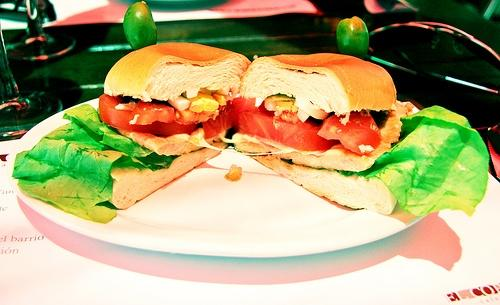lettuce: (304, 105, 490, 218), (12, 103, 180, 224)
tomato: (234, 105, 340, 152), (99, 93, 199, 135), (316, 110, 381, 155), (202, 100, 236, 140), (232, 96, 256, 114)
